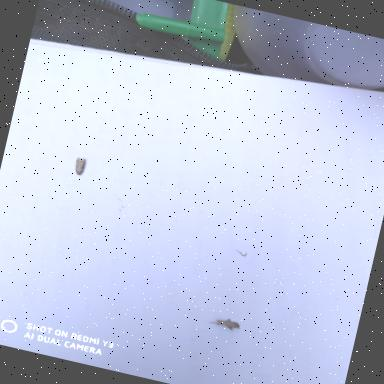pbw: (212, 314, 242, 332), (71, 155, 88, 177)
